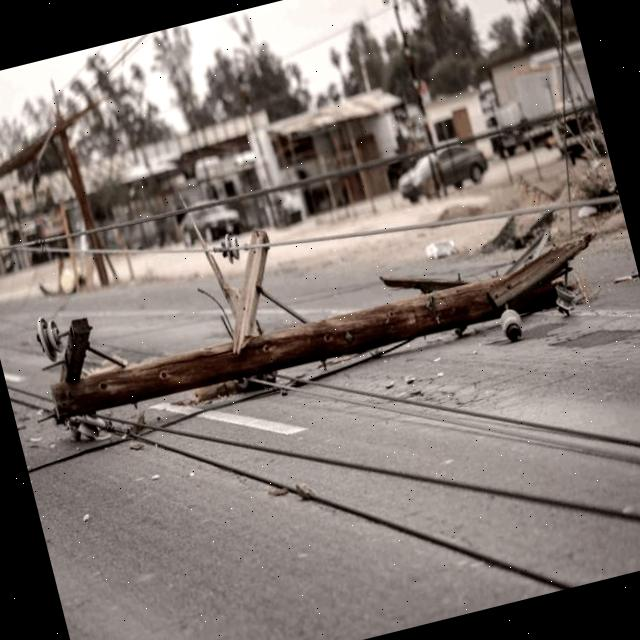Broken Pole: (9, 118, 605, 450)
